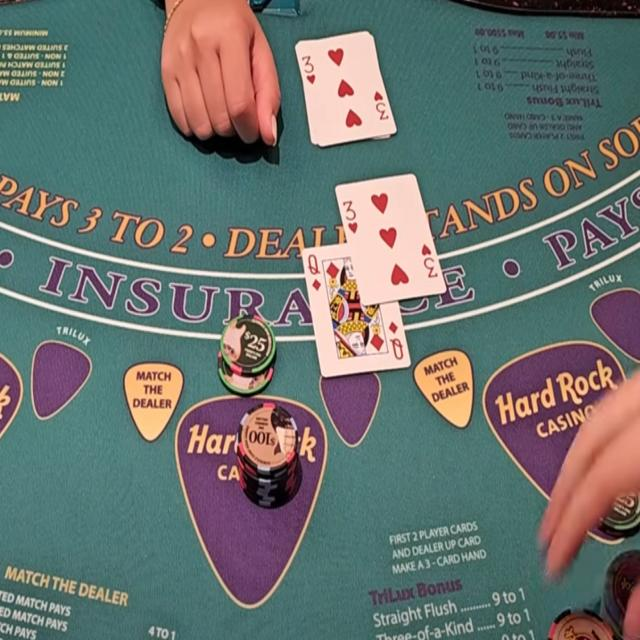3: (341, 194, 360, 222), (300, 52, 316, 74)
Q: (306, 252, 322, 278)
